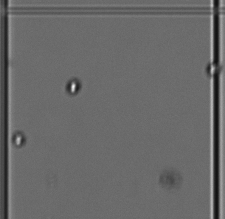Dead Cell: (159, 169, 182, 189)
Living Cell: (64, 77, 82, 96), (10, 130, 28, 149), (204, 61, 222, 80)
